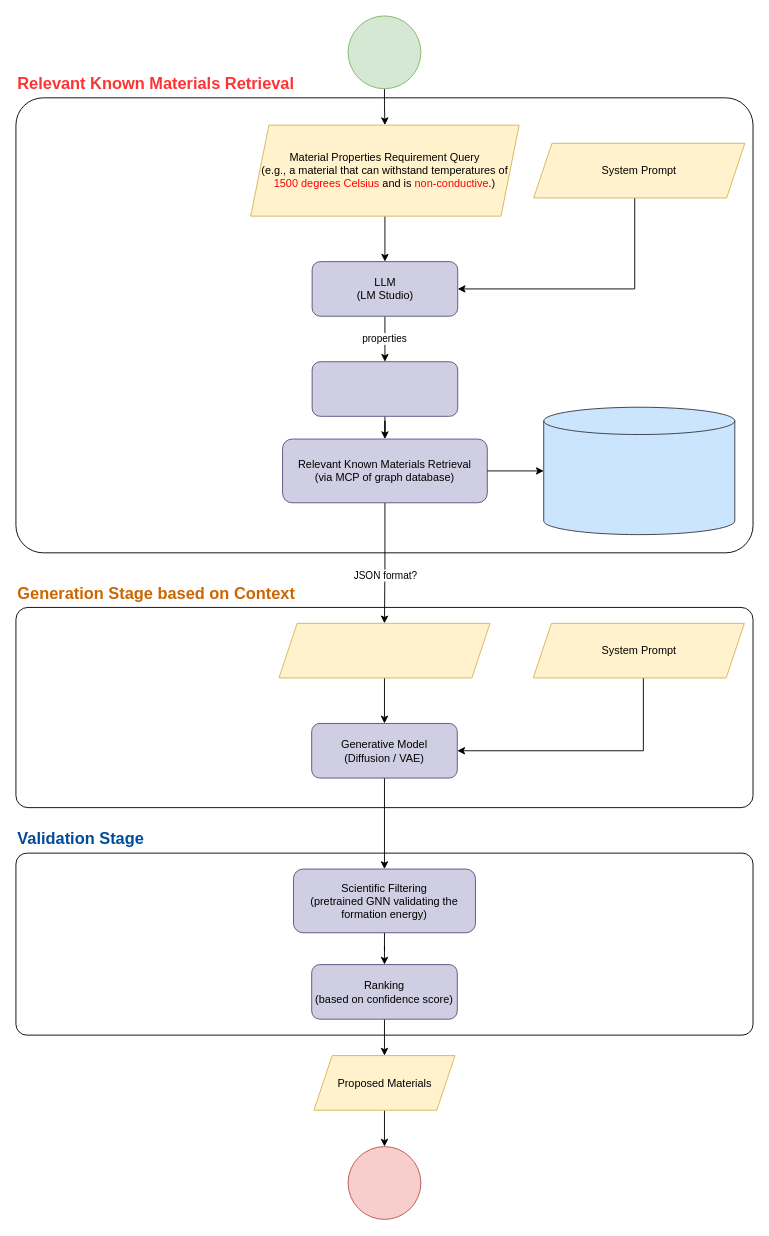
Image size: 769x1236. Some labels were removed from this diagram. The shapes that lost their labels are listed below. From the top down, each one's centre as x and y in pixels, then its label:
At point 384,52: "Start".
At point 384,388: "LLM parser (structured retrieval)".
At point 639,470: "High Temperature Resistant Material Knowledge Graph (Neo4j's database)".
At point 384,650: "Relevant Known Materials (e.g., material graph, fomula)".
At point 384,1182: "End".
